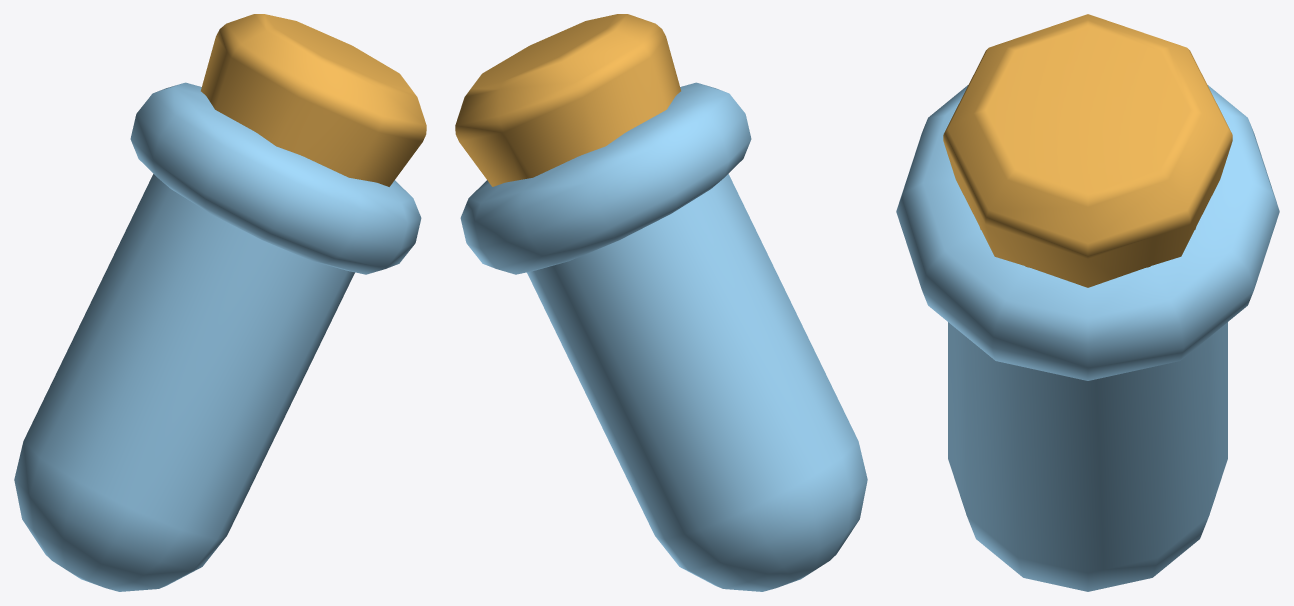
3 views of the same model, side by side, from view 1: azimuth 30°, elevation 25°; view 2: azimuth 150°, elevation 25°; view 3: azimuth 270°, elevation 25° (orthographic). The views are drawn at different scales.
Visible parts, largest first — view 1: model_0.091; view 2: model_0.091; view 3: model_0.091.
Part boxes in pixels (left/top/right/bottom): model_0.091: left=14, top=14, right=426, bottom=591; model_0.091: left=455, top=14, right=867, bottom=591; model_0.091: left=896, top=14, right=1279, bottom=591.
Size of the model in its own units: 3.18 by 4.12 by 2.24.
